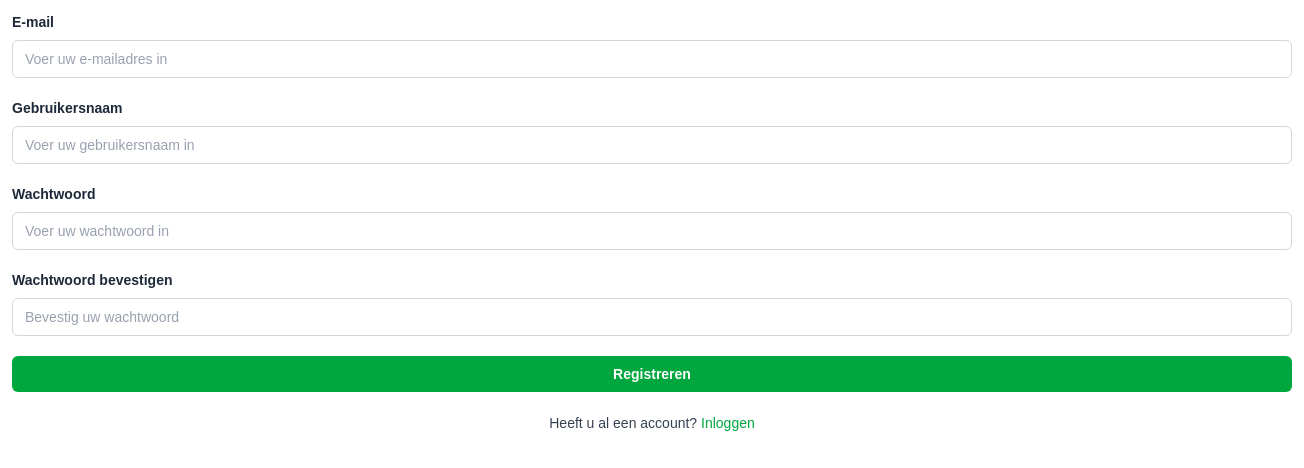
Test: RegisterForm › shows error when username is too short
The width and height of the screenshot is (1304, 468).
In the field with test id "email-input": coordinates (652, 59) [12, 40, 1292, 78], type "user@example.com"
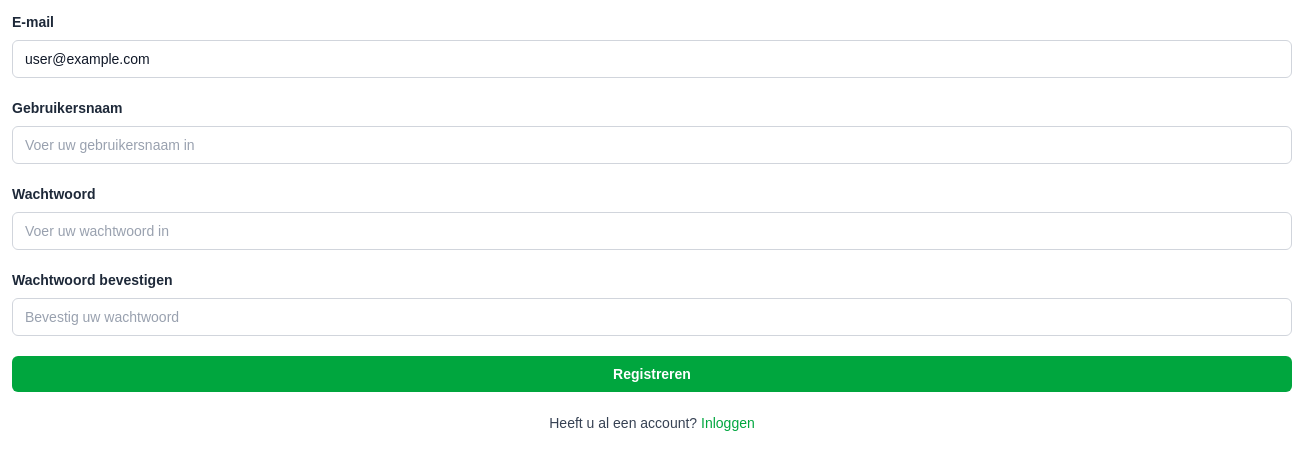
In the field with test id "username-input": coordinates (652, 145) [12, 126, 1292, 164], type "ab"
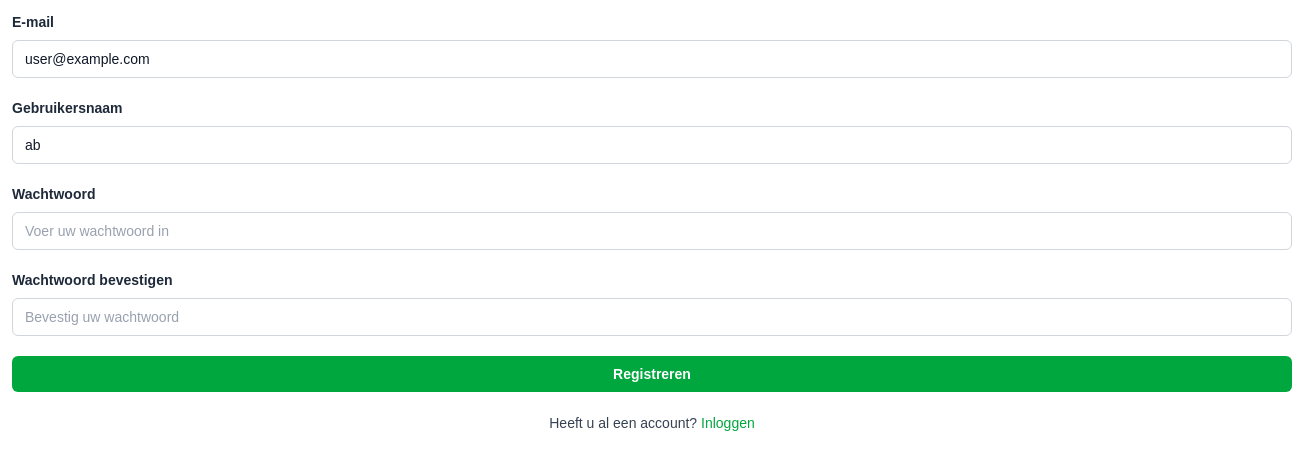
In the password field with test id "password-input": coordinates (652, 231) [12, 212, 1292, 250], type "password123"
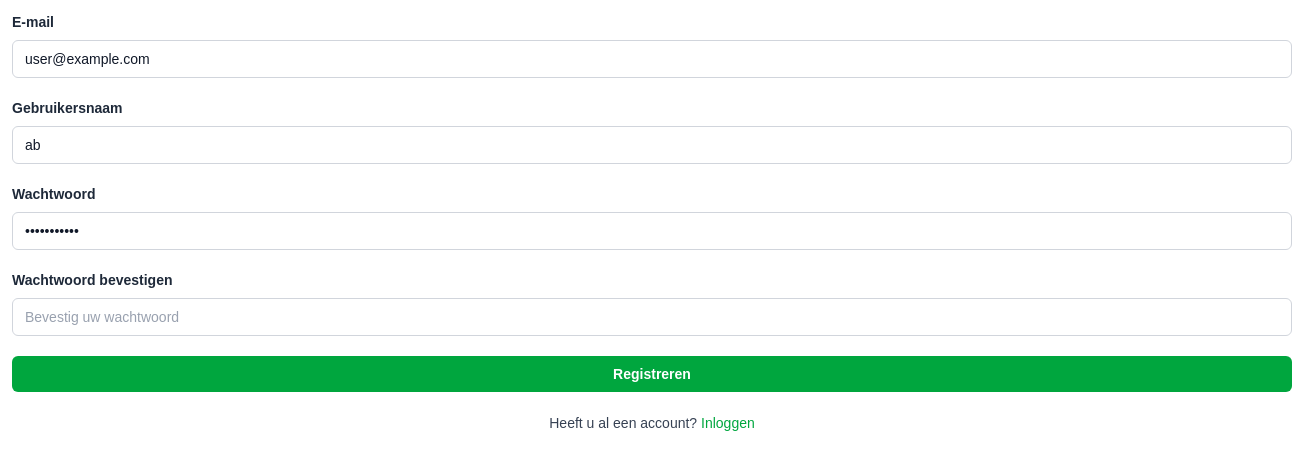
In the password field with test id "confirm-password-input": coordinates (652, 317) [12, 298, 1292, 336], type "password123"
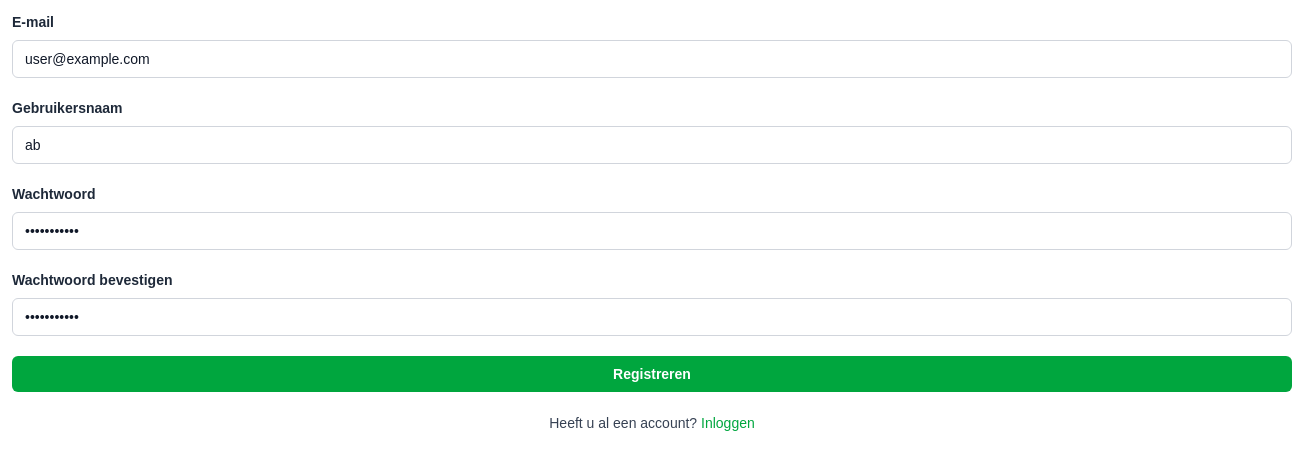
Click the button with test id "register-button": coordinates (652, 374) [12, 356, 1292, 392]
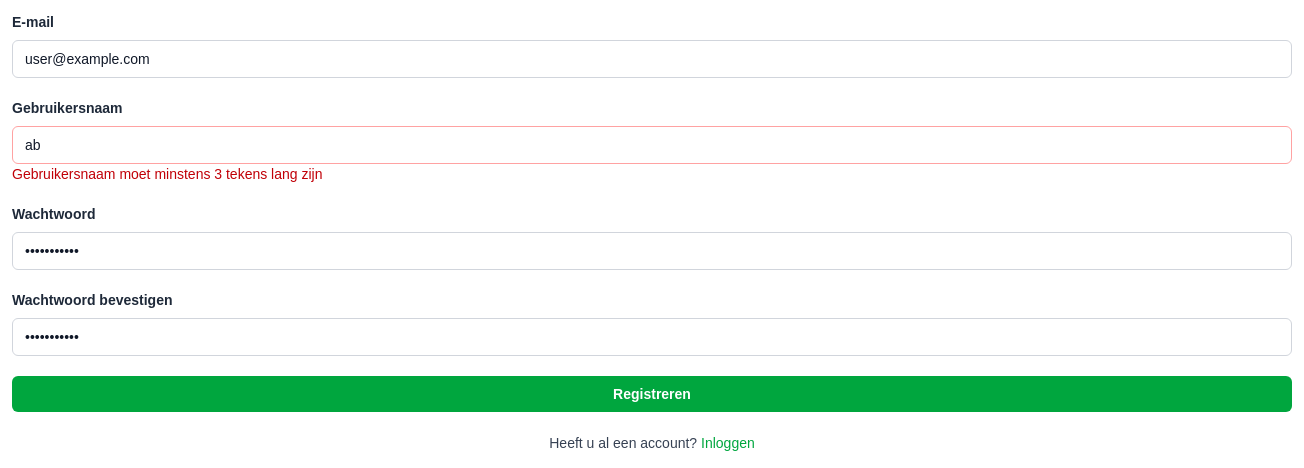
Now the text "Gebruikersnaam moet minstens 3 tekens lang zijn" is shown, box [12, 166, 322, 182]
